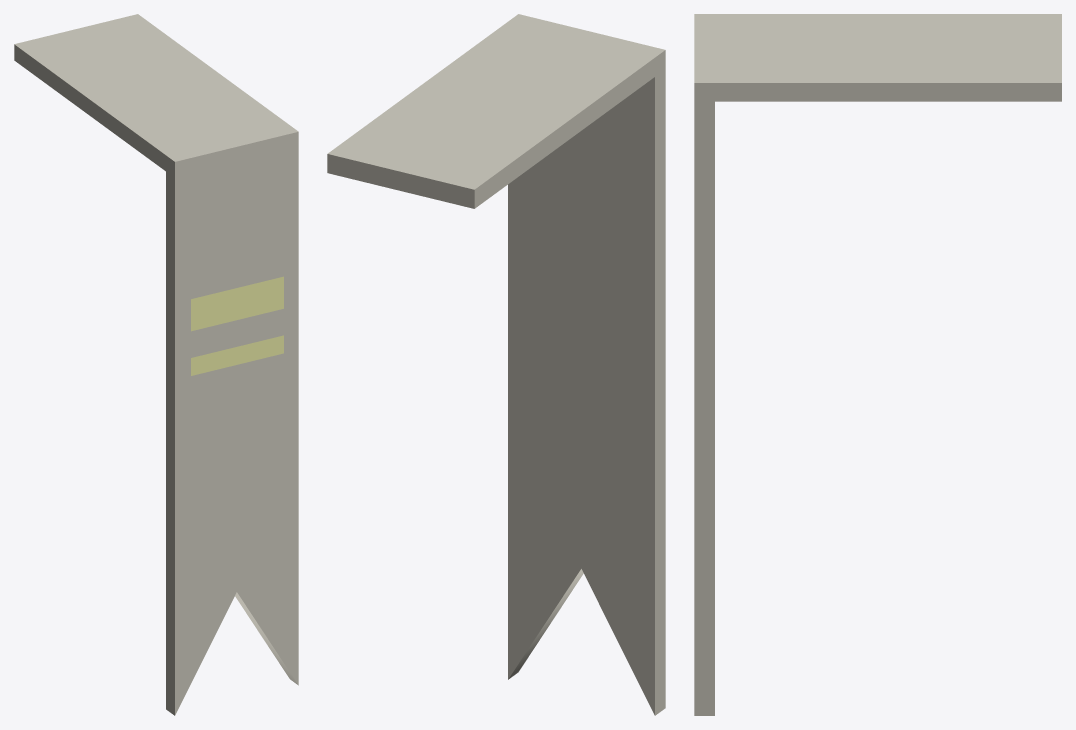
Rendered from Curtain.FBX.
3 renders of one model, left to right at view 1: azimuth 30°, elevation 25°; view 2: azimuth 150°, elevation 25°; view 3: azimuth 270°, elevation 25°, orthographic. The views are drawn at different scales.
Parts seen in each view (by area): view 1: Curtain; view 2: Curtain; view 3: Curtain.
Part boxes in pixels (<box>): Curtain: <box>14,14,298,715</box>; Curtain: <box>327,14,665,715</box>; Curtain: <box>694,14,1061,715</box>.
Bounding box in the file's own units: 10 × 42.76 × 22.52.
